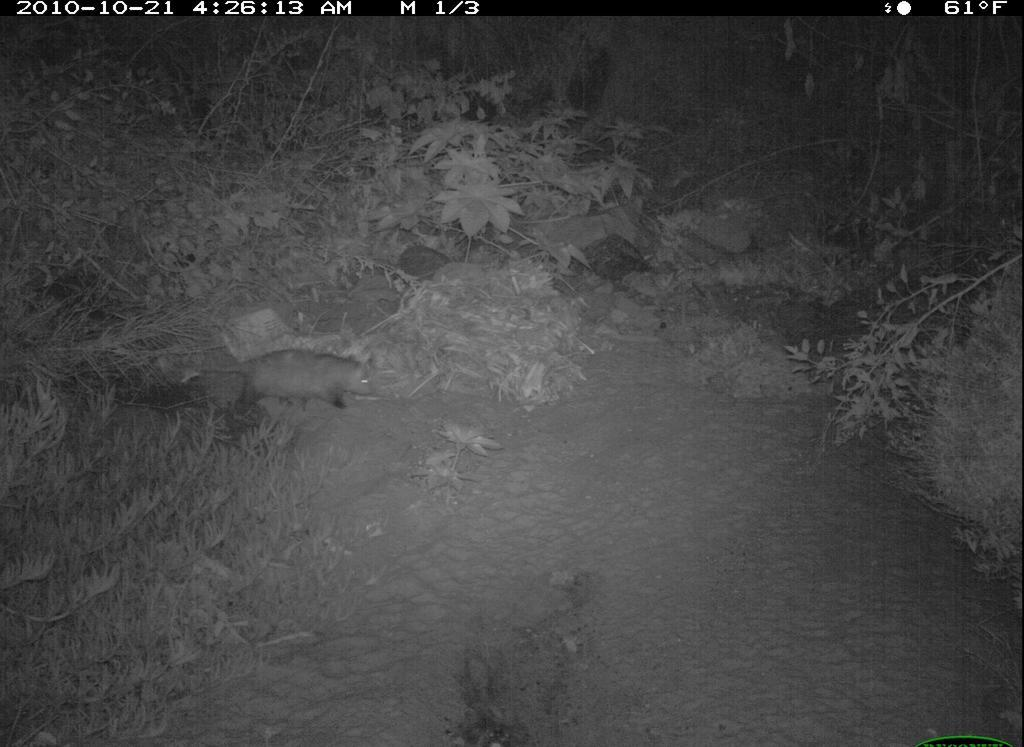opossum: (161, 346, 379, 420)
